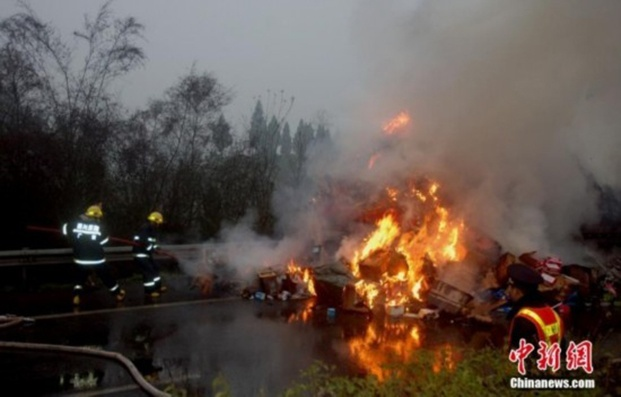fire: (343, 178, 468, 310), (346, 319, 433, 378), (283, 254, 318, 317), (374, 106, 415, 136)
